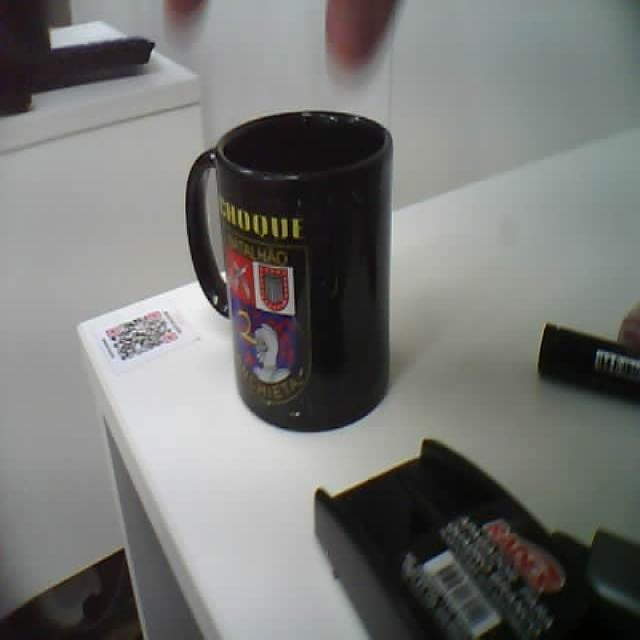caneca: (186, 111, 392, 429)
